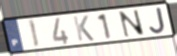1: (97, 12, 113, 40)
4: (52, 16, 70, 46)
I: (27, 18, 42, 50)
J: (148, 6, 167, 35)
K: (72, 14, 96, 43)
N: (117, 9, 146, 38)
